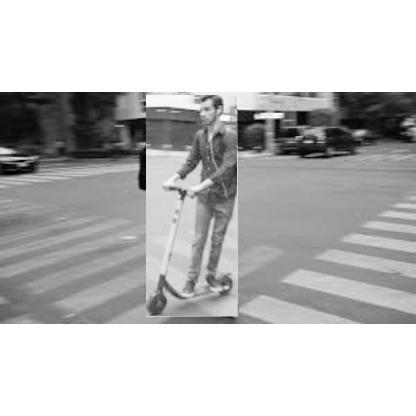with scooter: (147, 96, 239, 318)
